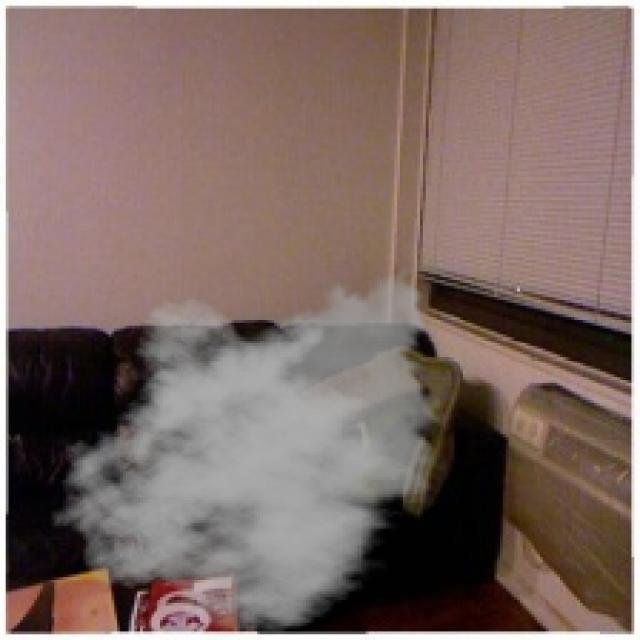Smoke: (49, 260, 448, 634)
